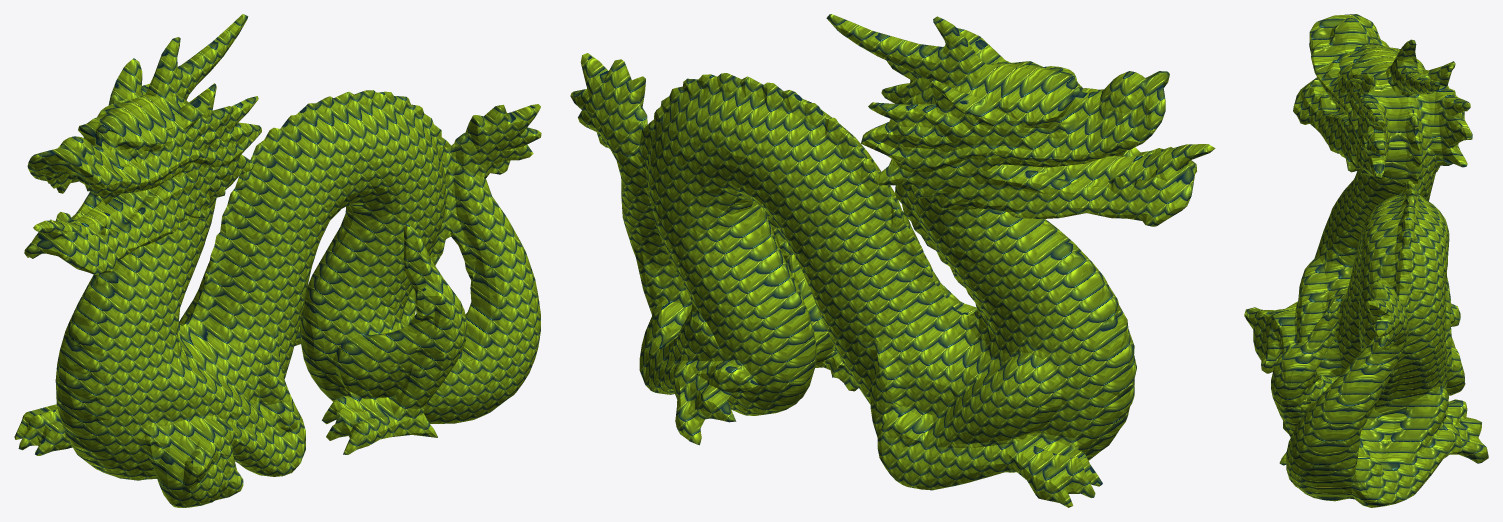
File: dragon.fbx
3 renders of one model, left to right at view 1: azimuth 30°, elevation 25°; view 2: azimuth 150°, elevation 25°; view 3: azimuth 270°, elevation 25°, orthographic. The views are drawn at different scales.
Parts seen in each view (by area): view 1: dragon:Mesh; view 2: dragon:Mesh; view 3: dragon:Mesh.
Boxes of the visible parts, <box> form: dragon:Mesh: <box>14,14,541,507</box>; dragon:Mesh: <box>570,14,1215,507</box>; dragon:Mesh: <box>1244,14,1488,507</box>.
Bounding box in the file's own units: 1.63 × 1.15 × 0.7286.
